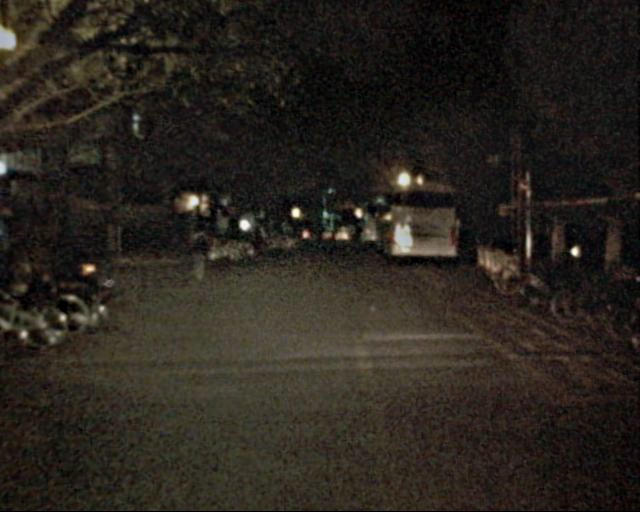person: (186, 220, 210, 278), (245, 219, 261, 259), (345, 224, 365, 250)
